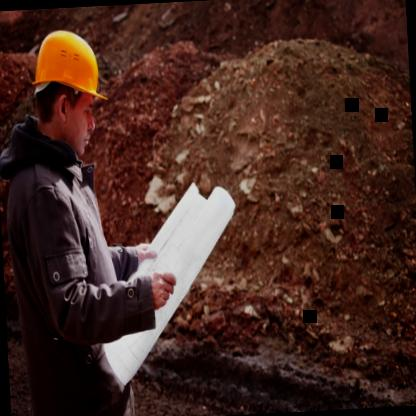helmet: (20, 8, 118, 165)
